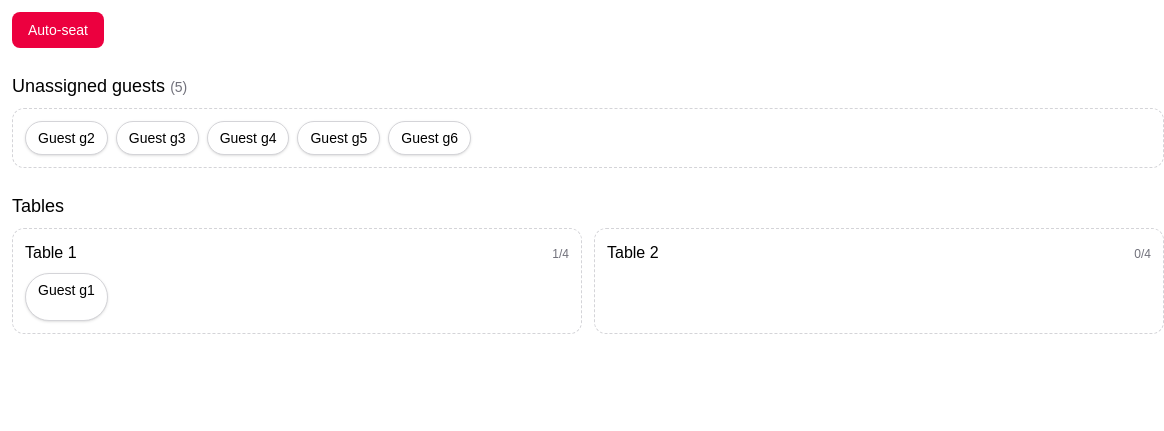
Test case: <SeatingBoard /> auto-seat › Undo restores the exact pre-auto-seat arrangement
expect the text with test id "unassigned-count" reads "(5)": met, box [170,79,187,95]
Click the button with test id "auto-seat-button".
click(58, 30)  # box [12,12,104,48]
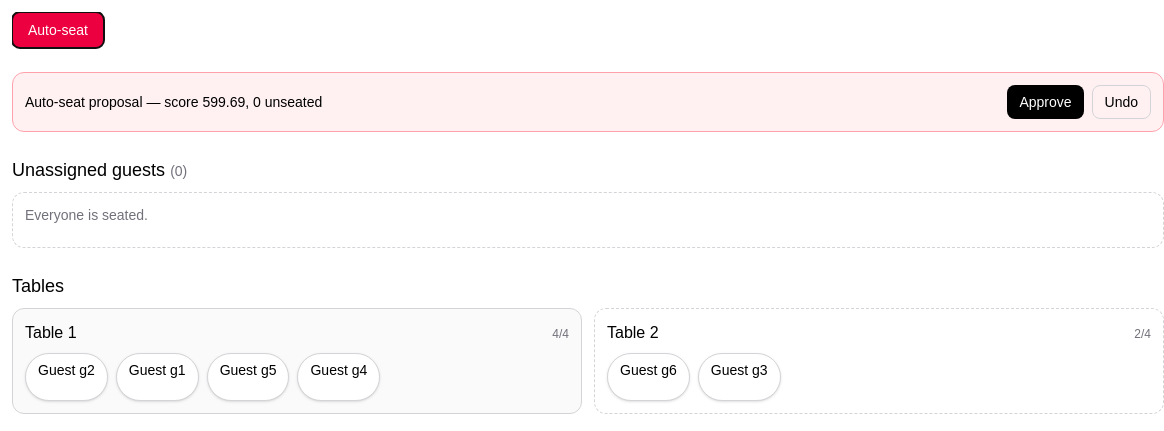
expect the text with test id "unassigned-count" reads "(0)": met, box [170,163,187,179]
Click the button with test id "auto-seat-undo".
click(1121, 102)  # box [1092,85,1151,119]
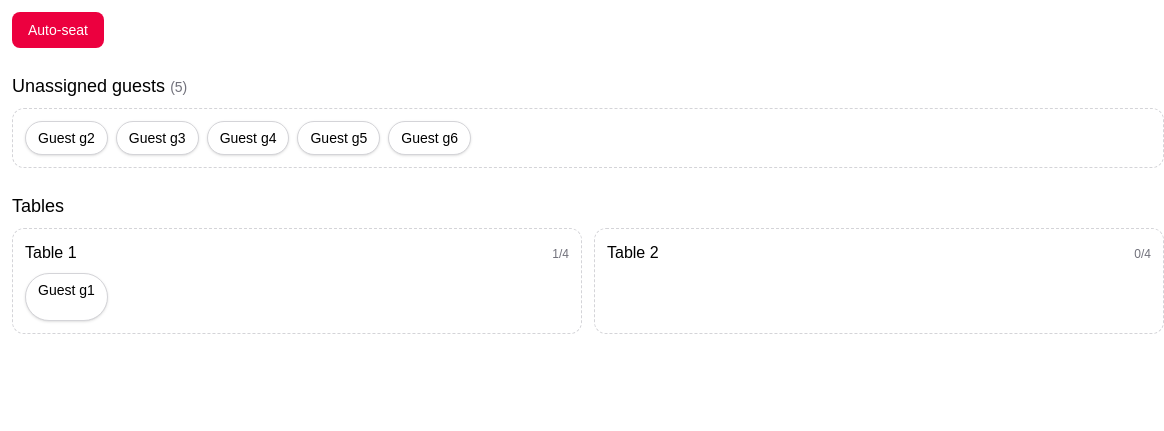
expect the button with test id "chip-g1" is shown: met, box [25,273,108,321]
expect the message with test id "auto-seat-review" is gone: met
expect the text with test id "unassigned-count" reads "(5)": met, box [170,79,187,95]
